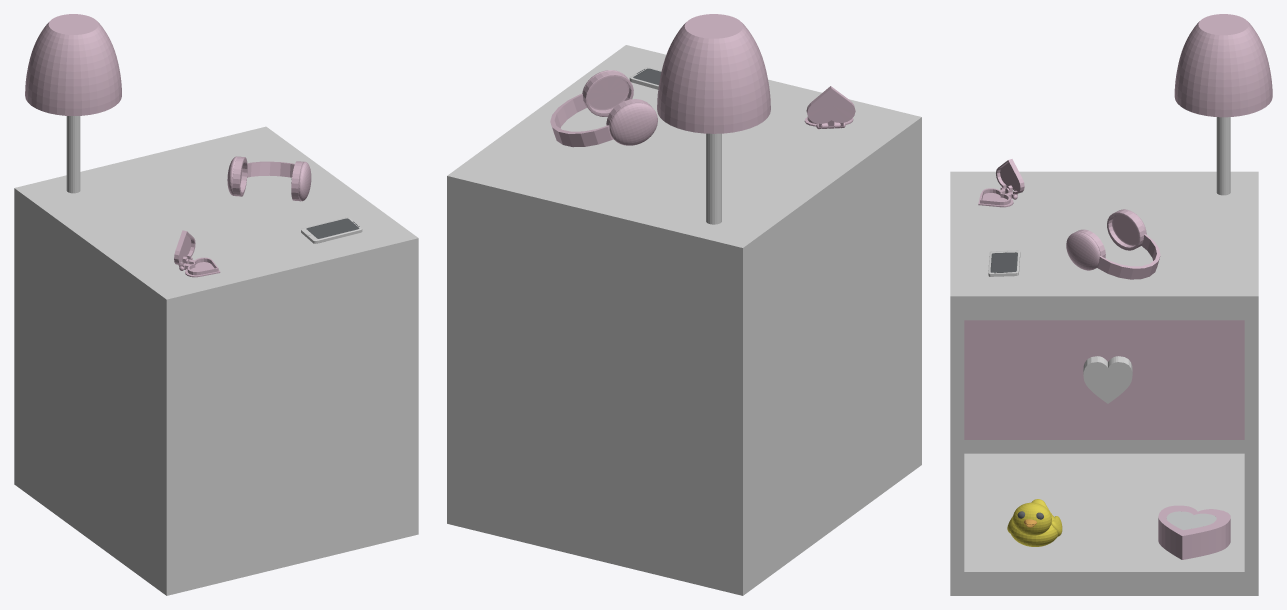
Rendered from table-3d model.glb.
3 renders of one model, left to right at view 1: azimuth 30°, elevation 25°; view 2: azimuth 150°, elevation 25°; view 3: azimuth 270°, elevation 25°, orthographic. The views are drawn at different scales.
Parts seen in each view (by area): view 1: Mesh_Mesh_head_geo.001_lambert2SG.001; view 2: Mesh_Mesh_head_geo.001_lambert2SG.001; view 3: Mesh_Mesh_head_geo.001_lambert2SG.001.
Part boxes in pixels (x1,y1,x2,y2): Mesh_Mesh_head_geo.001_lambert2SG.001: (14,14,418,595); Mesh_Mesh_head_geo.001_lambert2SG.001: (447,14,921,595); Mesh_Mesh_head_geo.001_lambert2SG.001: (950,14,1272,595).
Size of the model in its own units: 45 by 72 by 45.
